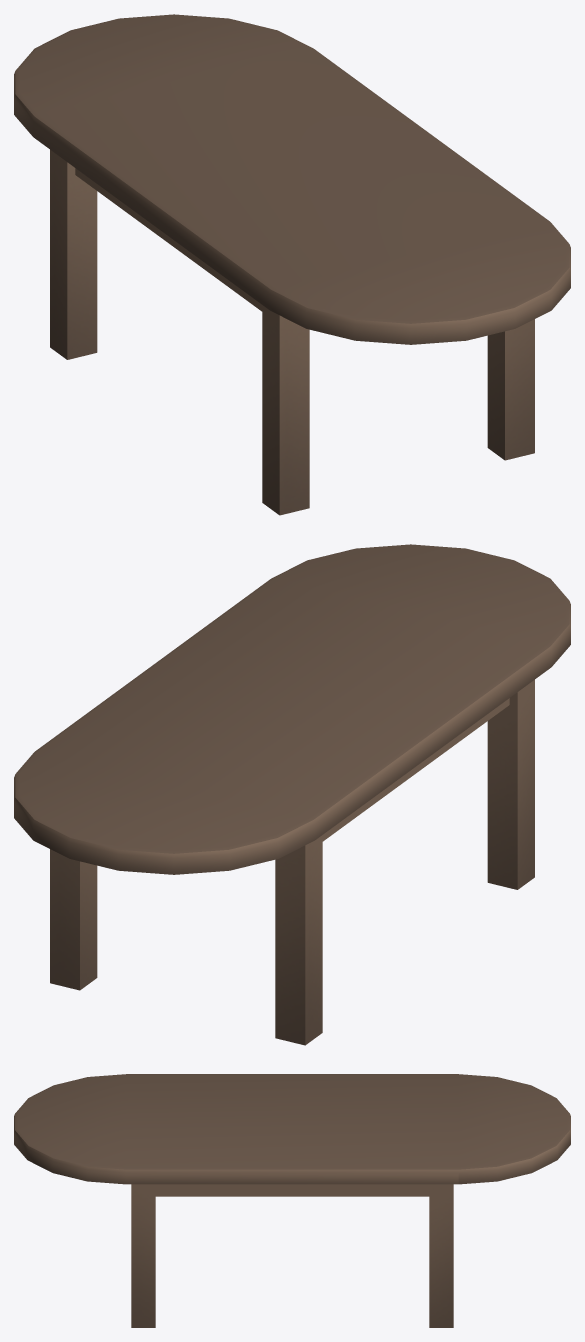
Rendered from RoundedTable.FBX.
3 renders of one model, top to bottom at view 1: azimuth 30°, elevation 25°; view 2: azimuth 150°, elevation 25°; view 3: azimuth 270°, elevation 25°, orthographic. The views are drawn at different scales.
Visible parts, largest first — view 1: RoundedTable; view 2: RoundedTable; view 3: RoundedTable.
Part boxes in pixels (x1,y1,x2,y2): RoundedTable: [14, 14, 570, 515]; RoundedTable: [14, 544, 570, 1045]; RoundedTable: [14, 1074, 570, 1327].
Bounding box in the file's own units: 39.37 × 31.06 × 96.11.
